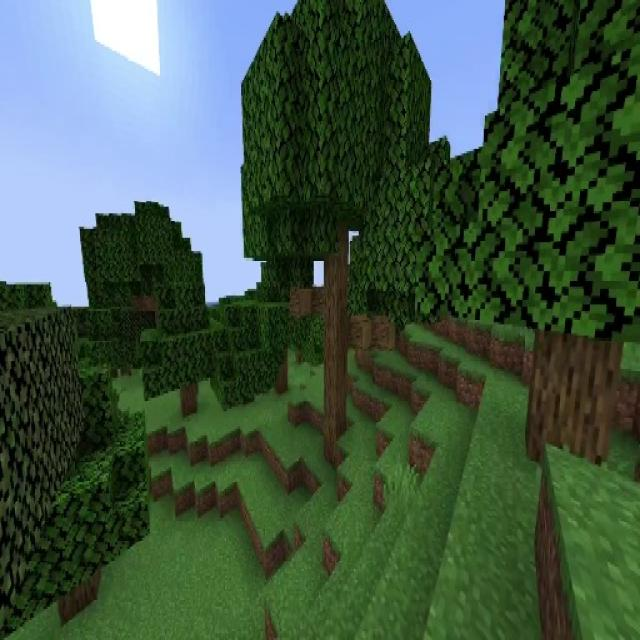oak: (433, 0, 640, 471), (242, 0, 432, 442), (5, 364, 152, 640), (143, 278, 224, 417), (243, 265, 310, 394)
oak_log: (526, 333, 620, 468), (325, 227, 348, 438), (56, 566, 102, 626), (180, 381, 198, 416), (274, 349, 288, 394)
